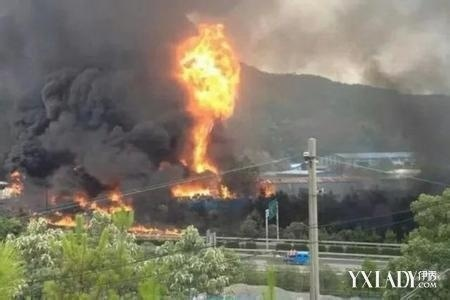fire: (171, 16, 243, 196), (2, 169, 24, 196), (259, 178, 278, 196)
